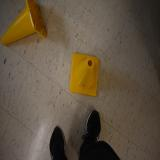cone: (1, 0, 47, 46), (70, 52, 98, 96)
